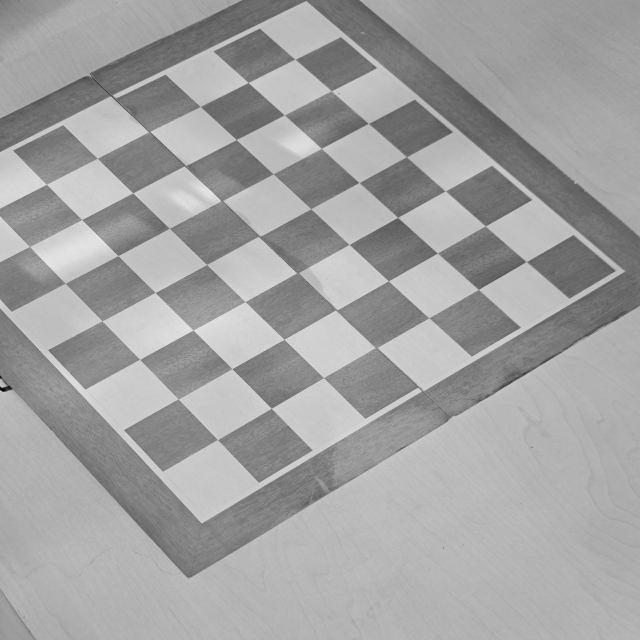chess-table-corners: (190, 506, 218, 524), (602, 262, 628, 280), (293, 2, 313, 16)
